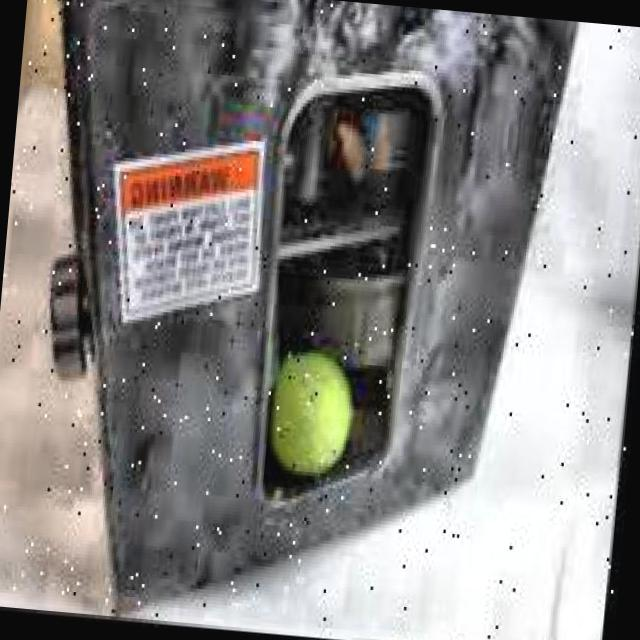Tennis Ball: (261, 332, 364, 486)
